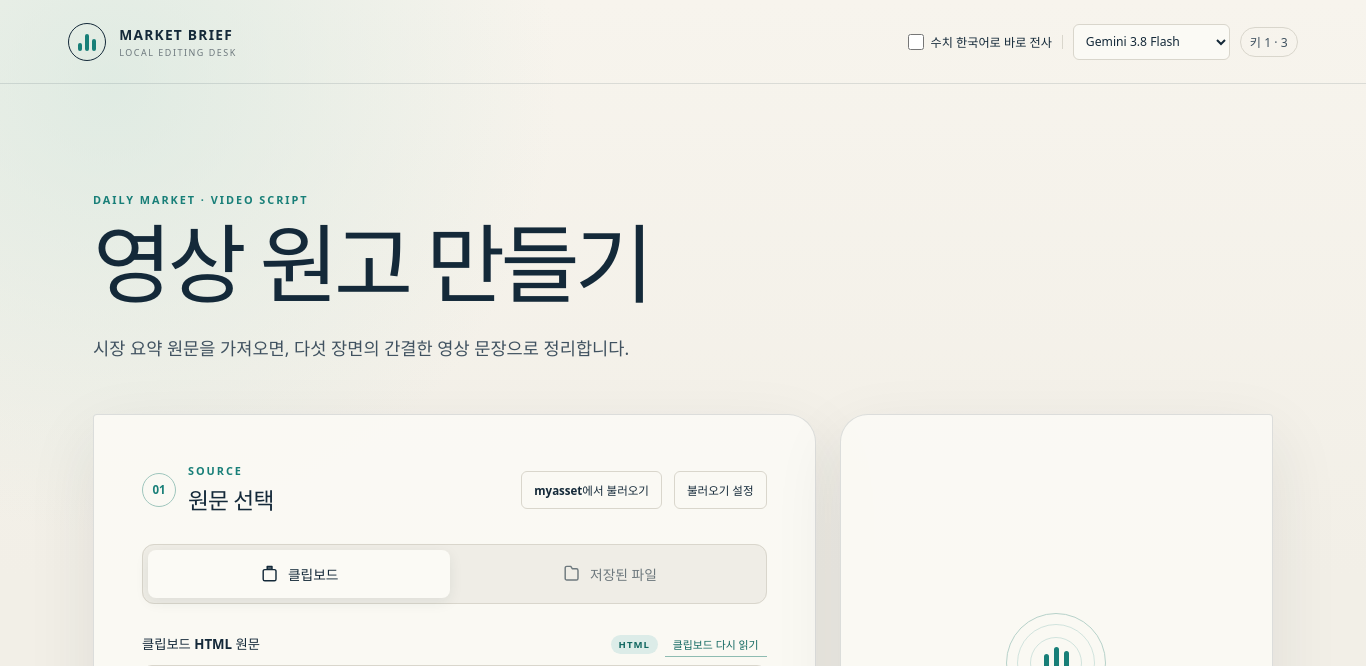
it: App › 브라우저 저장소가 차단되어도 모델을 선택하고 실행한다
The width and height of the screenshot is (1366, 666).
Expected: the heading "영상 원고 만들기" is shown, [93, 204, 649, 321]
Select "Gemini 3.6 Flash" in the dropdown named "시작 모델" at {"x": 1151, "y": 42}, box [1073, 24, 1230, 60]
(page scrolled)
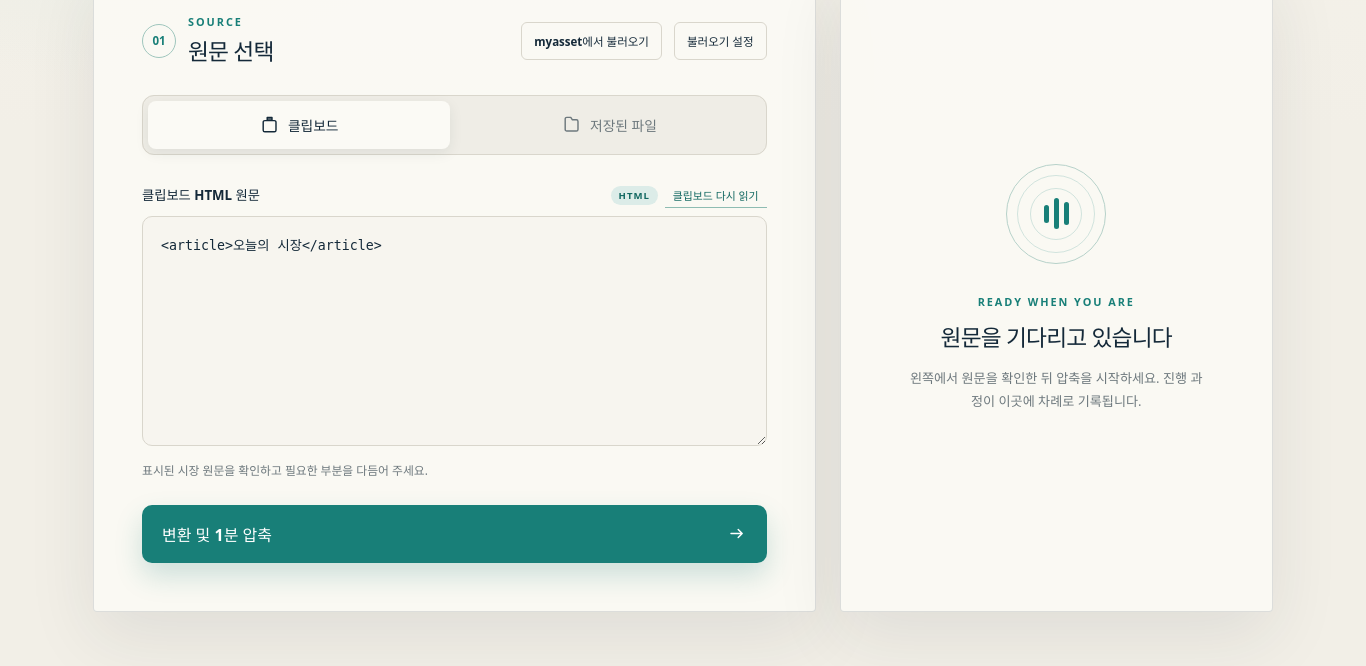
Click the button "변환 및 1분 압축".
click(217, 535)  # box [142, 505, 766, 563]
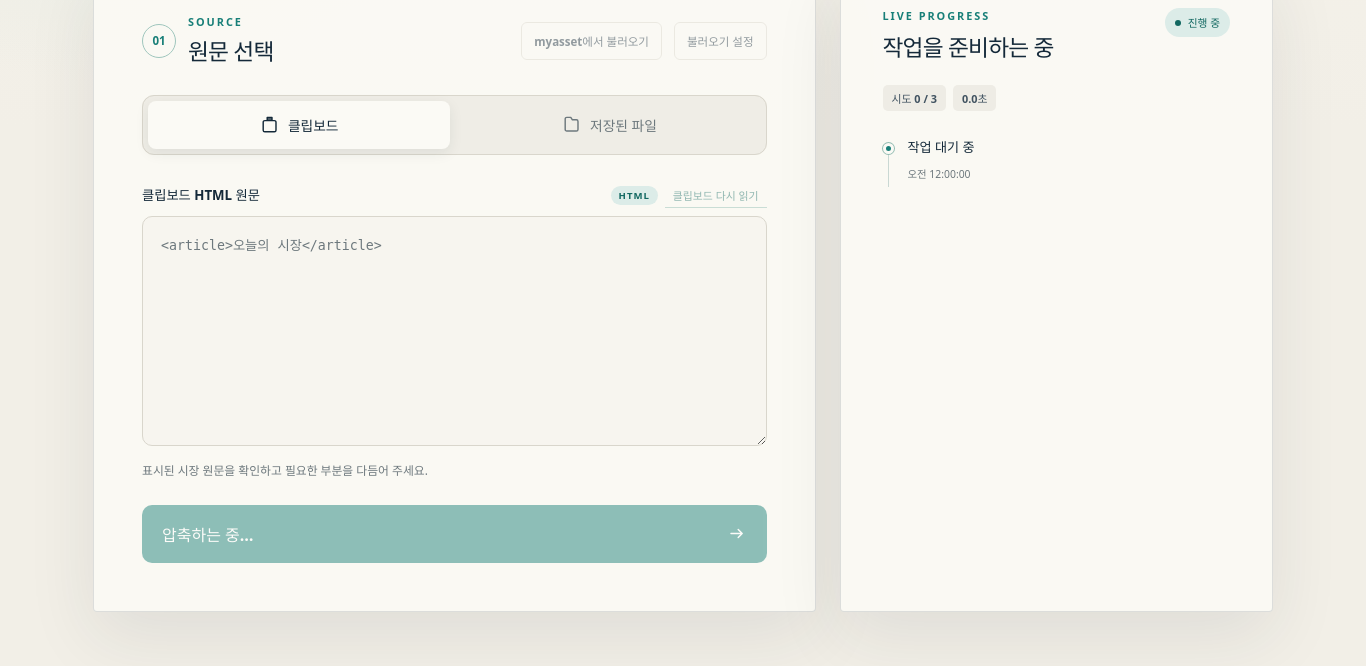
Expected: the heading "작업을 준비하는 중" is shown, [882, 30, 1054, 63]
